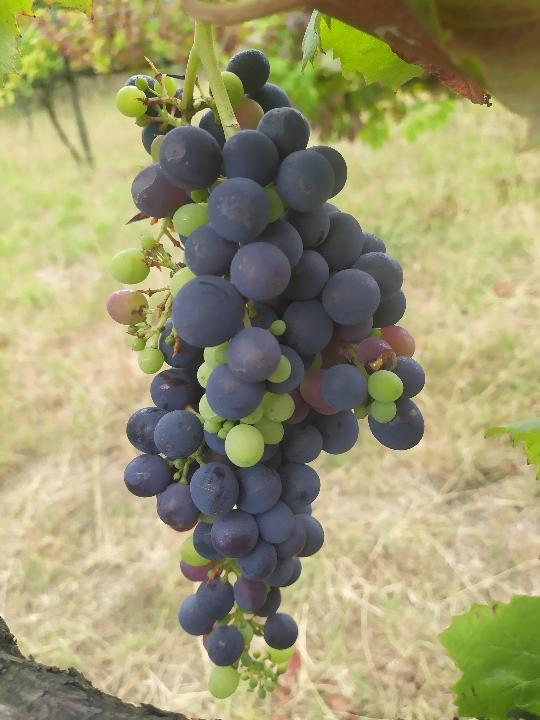grape: (100, 48, 429, 701)
